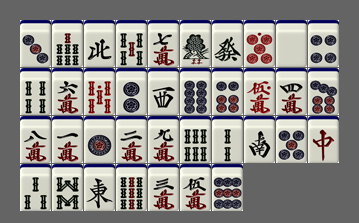0m: (244, 68, 275, 115)
0p: (244, 20, 275, 67)
0s: (84, 68, 115, 115)
1m: (52, 116, 83, 163)
1p: (84, 116, 115, 163)
1s: (180, 20, 211, 67)
1z: (84, 164, 115, 211)
2m: (116, 116, 147, 163)
2p: (116, 68, 147, 115)
2s: (212, 116, 243, 163)
2z: (244, 116, 275, 163)
3m: (148, 164, 179, 211)
3p: (20, 20, 51, 67)
3s: (20, 164, 51, 211)
3z: (148, 68, 179, 115)
4m: (276, 68, 307, 115)
4p: (308, 20, 339, 67)
4s: (20, 68, 51, 115)
4z: (84, 20, 115, 67)
5m: (180, 164, 211, 211)
5p: (276, 116, 307, 163)
5s: (116, 20, 147, 67)
5z: (276, 20, 307, 67)
6m: (52, 68, 83, 115)
6p: (212, 68, 243, 115)
6s: (180, 116, 211, 163)
6z: (212, 20, 243, 67)
7m: (148, 20, 179, 67)
7p: (308, 68, 339, 115)
7s: (52, 20, 83, 67)
7z: (308, 116, 339, 163)
8m: (20, 116, 51, 163)
8p: (180, 68, 211, 115)
8s: (52, 164, 83, 211)
9m: (148, 116, 179, 163)
9p: (212, 164, 243, 211)
9s: (116, 164, 147, 211)
